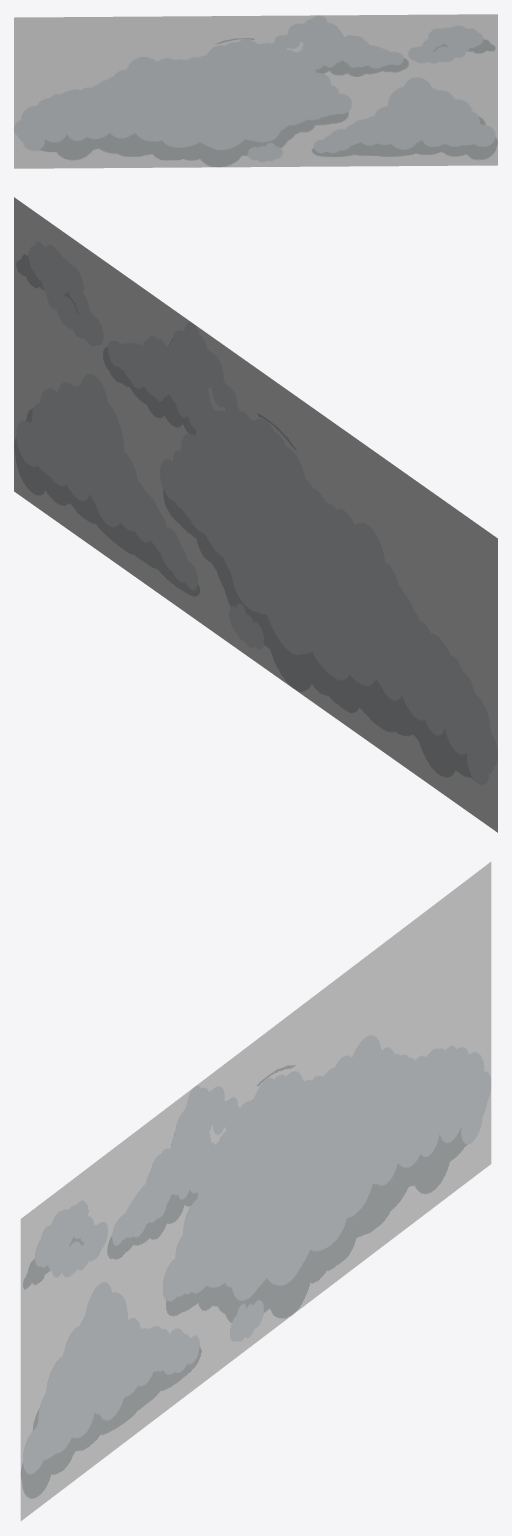
Rendered from cloudPlane1.glb.
The picture shows the model from 3 angles, top to bottom: view 1: azimuth 30°, elevation 25°; view 2: azimuth 150°, elevation 25°; view 3: azimuth 270°, elevation 25°; orthographic projection. The views are drawn at different scales.
Parts seen in each view (by area): view 1: Plane; view 2: Plane; view 3: Plane.
Boxes of the visible parts, x1,y1,x2,y2 form: Plane: [14, 14, 497, 168]; Plane: [14, 197, 497, 832]; Plane: [20, 862, 491, 1520].
Size of the model in its own units: 130 by 51.1 by 72.03.
Materials: 1 (1 with a texture image).
